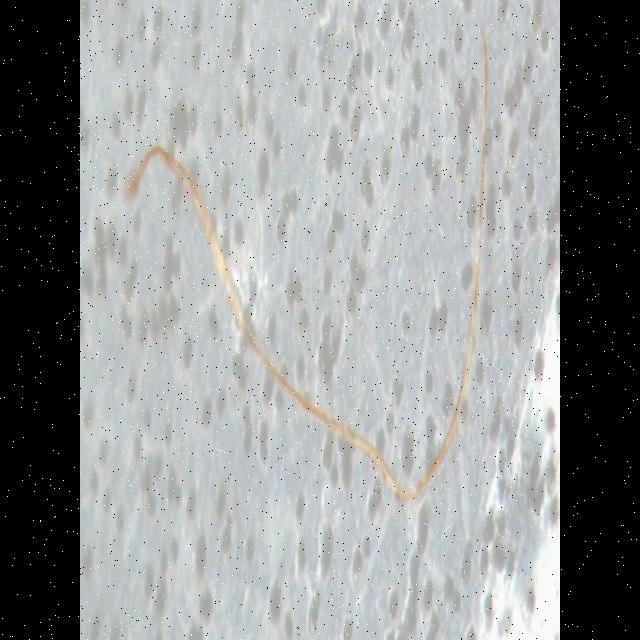Fibre: (123, 23, 490, 503)
